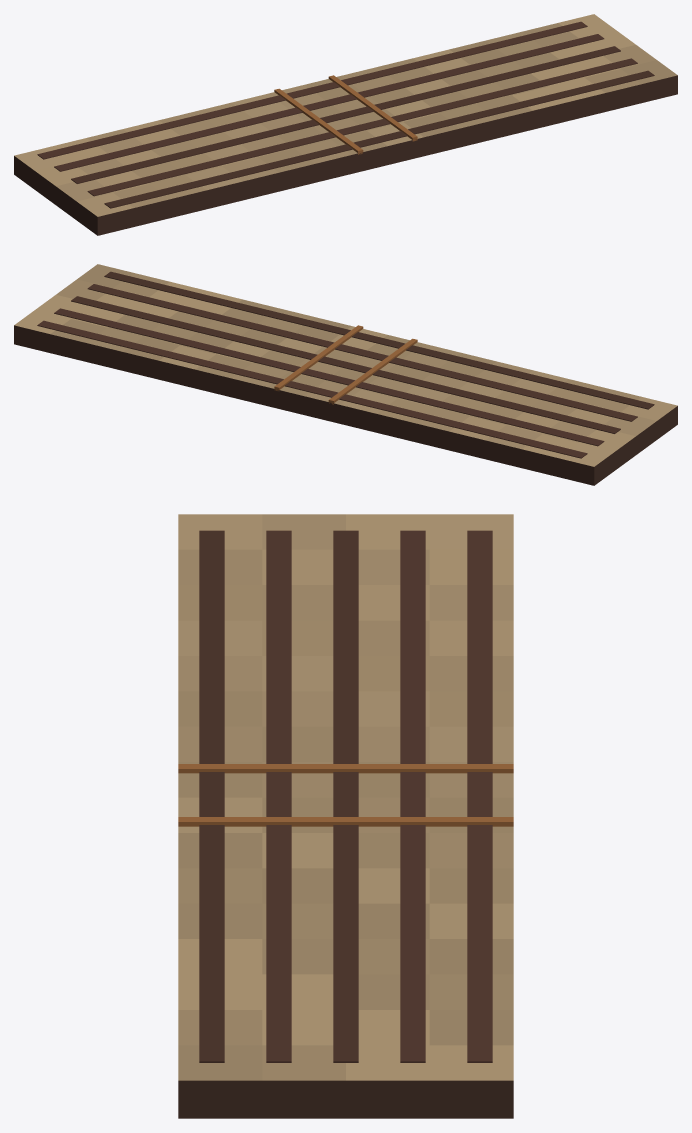
The model's file is haulage_bed.glb.
The picture shows the model from 3 angles, top to bottom: view 1: azimuth 30°, elevation 25°; view 2: azimuth 150°, elevation 25°; view 3: azimuth 270°, elevation 25°; orthographic projection. The views are drawn at different scales.
Parts seen in each view (by area): view 1: haulage_bed; view 2: haulage_bed; view 3: haulage_bed.
Part boxes in pixels (box(x1,y1,x2,y2)): haulage_bed: box(14, 14, 677, 235); haulage_bed: box(14, 264, 677, 485); haulage_bed: box(178, 514, 513, 1118).
Size of the model in its own units: 16 by 0.56 by 4.
